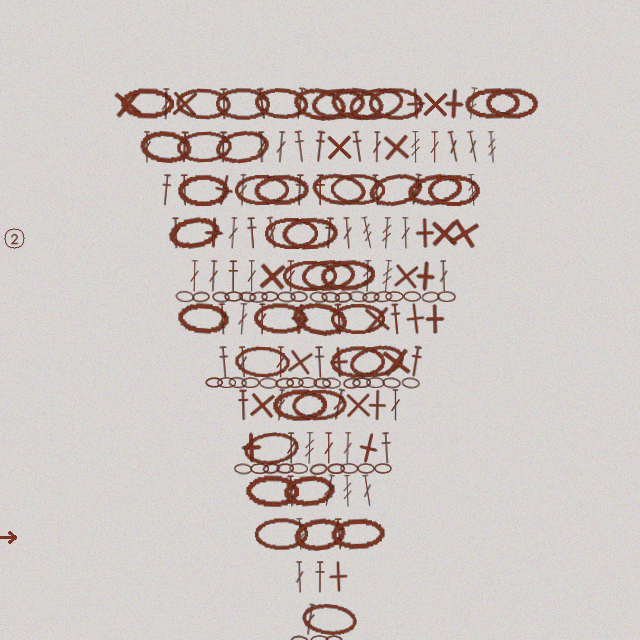chain: (346, 83, 407, 125), (366, 169, 426, 211), (347, 341, 406, 382), (290, 298, 349, 339), (405, 170, 464, 210), (291, 84, 349, 124), (213, 127, 272, 166), (166, 213, 223, 253), (242, 429, 301, 467), (310, 170, 367, 209), (329, 84, 386, 123), (300, 601, 358, 638), (292, 515, 348, 553), (138, 128, 194, 165), (310, 86, 367, 122), (300, 258, 357, 293), (319, 258, 376, 293), (282, 473, 337, 509), (253, 86, 309, 121), (291, 388, 348, 422), (281, 216, 338, 250), (175, 87, 232, 121), (176, 301, 231, 336), (234, 345, 290, 379), (253, 173, 309, 207), (176, 130, 232, 164), (330, 517, 385, 551), (330, 345, 386, 378), (215, 87, 271, 120), (368, 87, 424, 120), (464, 87, 520, 120), (272, 388, 327, 421), (253, 302, 308, 335), (330, 173, 385, 206), (282, 260, 338, 292), (234, 174, 290, 206), (254, 517, 308, 550), (245, 474, 299, 507), (120, 87, 174, 120), (485, 87, 539, 120), (330, 303, 385, 335), (264, 217, 318, 249), (427, 174, 481, 206), (177, 174, 230, 206), (309, 462, 328, 476), (175, 290, 195, 303), (348, 290, 368, 303), (373, 290, 393, 303), (262, 462, 281, 475), (228, 376, 247, 389), (259, 377, 278, 389), (275, 377, 294, 389), (322, 377, 341, 389), (382, 377, 401, 389), (401, 377, 420, 389), (238, 291, 257, 303), (249, 291, 268, 303), (277, 291, 296, 303), (309, 291, 328, 303), (321, 291, 340, 303), (334, 291, 353, 303), (421, 291, 440, 303), (234, 463, 252, 475), (313, 377, 331, 389), (343, 377, 361, 389), (192, 291, 210, 303), (212, 291, 230, 303), (290, 290, 308, 302), (362, 291, 380, 303), (250, 463, 269, 474), (289, 463, 308, 474), (217, 377, 236, 388), (241, 377, 260, 388), (298, 377, 317, 388), (352, 377, 371, 388), (366, 377, 385, 388), (224, 291, 243, 302), (385, 291, 404, 302), (437, 291, 456, 302), (276, 463, 294, 474), (327, 463, 345, 474), (340, 463, 358, 474), (357, 463, 375, 474), (374, 463, 392, 474), (205, 377, 223, 388), (286, 377, 304, 388), (261, 291, 279, 302), (403, 291, 421, 302), (290, 635, 309, 640), (310, 635, 329, 640), (325, 635, 343, 640)
double: (330, 388, 347, 421), (445, 130, 462, 163), (321, 474, 337, 507), (408, 173, 424, 206), (465, 130, 481, 163), (360, 474, 375, 507), (303, 603, 317, 636), (265, 216, 279, 249), (274, 389, 287, 421), (236, 303, 249, 335), (341, 217, 354, 249), (370, 174, 383, 206), (285, 475, 297, 507), (237, 346, 249, 378), (227, 217, 239, 249), (275, 131, 287, 163), (294, 561, 305, 593), (323, 432, 334, 464), (342, 432, 353, 464), (390, 389, 401, 421), (275, 346, 286, 378), (217, 303, 228, 335), (189, 260, 200, 292), (208, 260, 219, 292), (246, 260, 257, 292), (285, 260, 296, 292), (438, 260, 449, 292), (400, 217, 411, 249), (237, 174, 248, 206), (256, 131, 267, 163), (429, 131, 440, 163), (286, 432, 296, 464), (257, 303, 267, 335), (171, 217, 181, 249), (142, 131, 152, 163), (372, 131, 382, 163), (161, 88, 171, 120)
half_double: (407, 345, 424, 378), (292, 130, 308, 163), (350, 130, 366, 163), (254, 87, 270, 120), (292, 87, 308, 120), (312, 130, 327, 163), (332, 518, 346, 550), (217, 346, 231, 378), (332, 303, 346, 335), (389, 303, 403, 335), (245, 217, 259, 249), (322, 217, 336, 249), (159, 174, 173, 206), (380, 432, 393, 464), (313, 346, 326, 378), (178, 174, 191, 206), (293, 174, 306, 206), (178, 131, 191, 163), (314, 561, 326, 593), (237, 389, 249, 421), (227, 260, 239, 292), (314, 174, 326, 206), (217, 131, 229, 163), (218, 88, 230, 120)
noise: (2, 226, 27, 251), (0, 531, 19, 544)
single: (349, 429, 387, 467), (445, 214, 483, 252), (205, 171, 243, 209), (282, 344, 318, 380), (378, 344, 414, 380), (398, 301, 433, 336), (110, 86, 145, 121), (245, 388, 279, 422), (322, 345, 356, 379), (283, 302, 317, 336), (360, 302, 394, 336), (255, 259, 289, 293), (389, 259, 423, 293), (408, 259, 442, 293), (379, 130, 413, 164), (322, 560, 355, 593), (235, 431, 268, 464), (197, 216, 230, 249), (168, 87, 201, 120), (399, 87, 432, 120), (437, 87, 470, 120), (342, 389, 374, 421), (361, 389, 393, 421), (419, 303, 451, 335), (409, 217, 441, 249), (428, 217, 460, 249), (323, 131, 355, 163), (419, 88, 451, 120)
treble: (359, 216, 376, 249), (465, 87, 480, 120), (380, 260, 394, 292), (380, 217, 393, 249), (466, 174, 479, 206), (294, 518, 306, 550), (486, 131, 498, 163), (342, 475, 353, 507), (304, 432, 315, 464), (362, 260, 373, 292), (410, 131, 421, 163)
